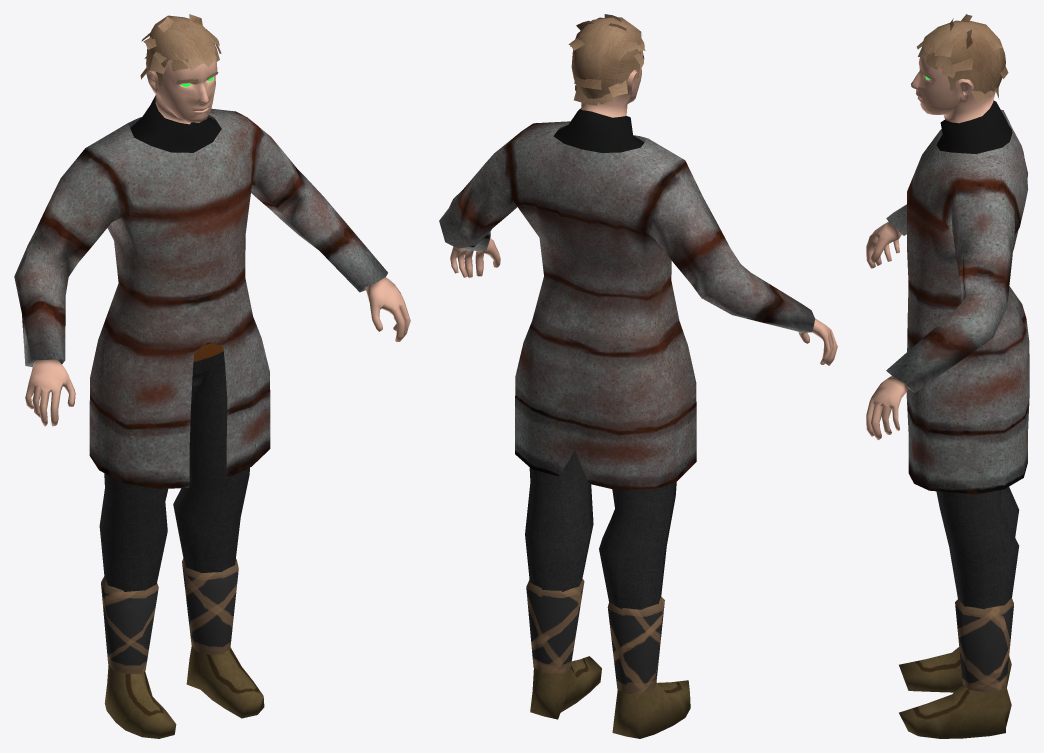
The model's file is boss_melee3.fbx.
The picture shows the model from 3 angles, left to right: view 1: azimuth 30°, elevation 25°; view 2: azimuth 150°, elevation 25°; view 3: azimuth 270°, elevation 25°; orthographic projection.
Parts seen in each view (by area): view 1: Kalevi_Clothes_Mesh; view 2: Kalevi_Clothes_Mesh; view 3: Kalevi_Clothes_Mesh.
Boxes of the visible parts, <box> form: Kalevi_Clothes_Mesh: <box>14,14,410,738</box>; Kalevi_Clothes_Mesh: <box>439,14,837,738</box>; Kalevi_Clothes_Mesh: <box>866,14,1029,738</box>.
Size of the model in its own units: 1.03 by 1.8 by 0.3887.
